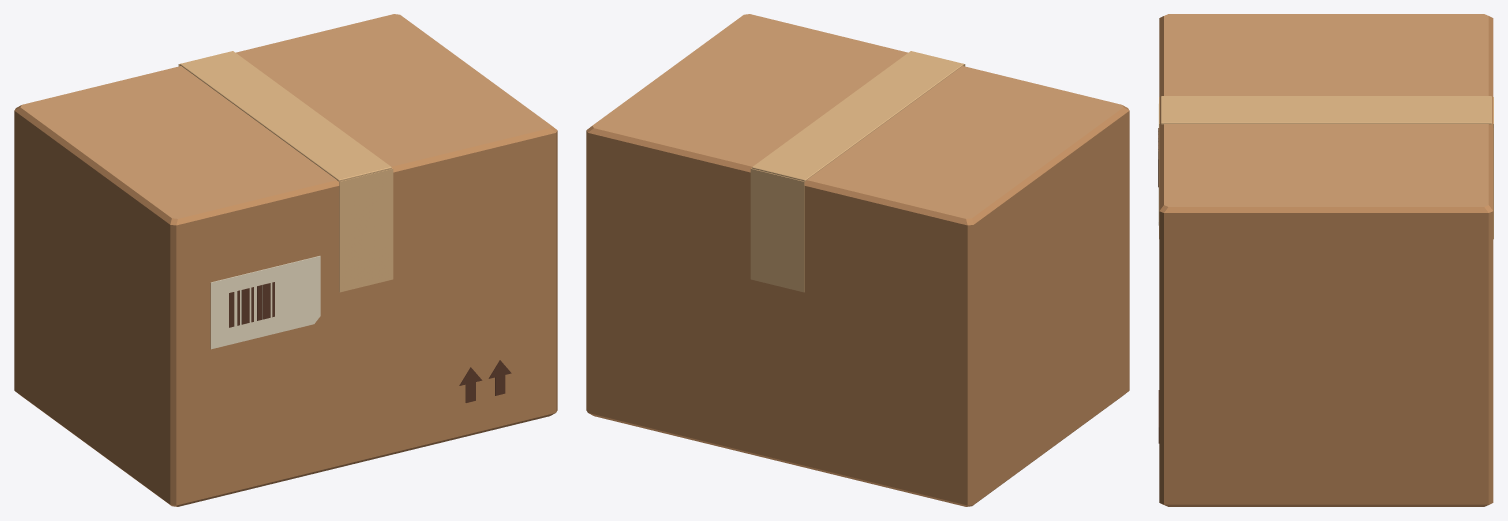
3 renders of one model, left to right at view 1: azimuth 30°, elevation 25°; view 2: azimuth 150°, elevation 25°; view 3: azimuth 270°, elevation 25°, orthographic. The views are drawn at different scales.
Visible parts, largest first — view 1: Parcel; view 2: Parcel; view 3: Parcel.
Part boxes in pixels (x1=…): Parcel: x1=14, y1=14, x2=557, y2=506; Parcel: x1=586, y1=14, x2=1129, y2=506; Parcel: x1=1158, y1=14, x2=1493, y2=506.
Bounding box in the file's own units: 0.304 × 0.2168 × 0.2191.
